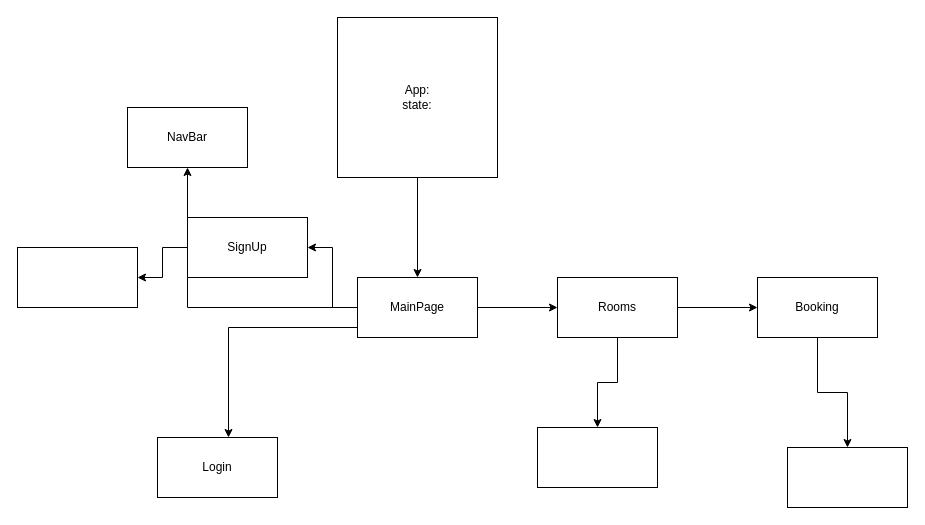
Image size: 925x525. Some labels were removed from this diagram. The centre of each missing label's shape, as x and y in pixels:
"AllBooking" belongs at point 847,477.
"FilteredRooms" belongs at point 597,457.
"Users" belongs at point 77,277.
